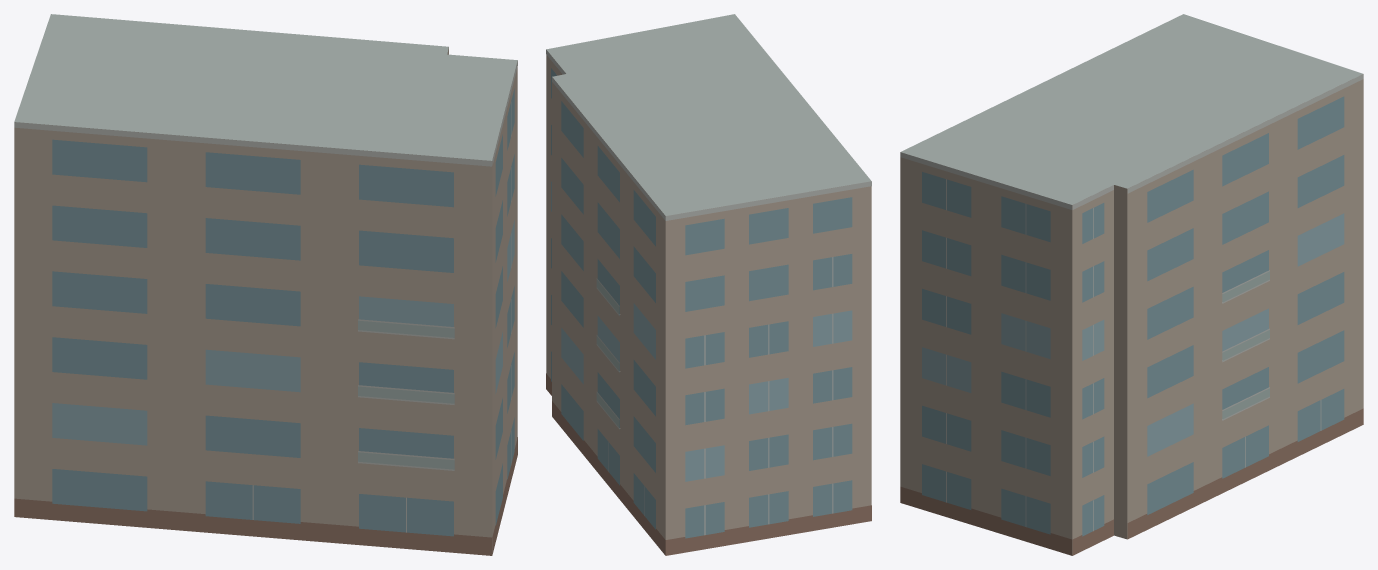
Rendered from survey-upis-32926034.glb.
3 renders of one model, left to right at view 1: azimuth 30°, elevation 25°; view 2: azimuth 150°, elevation 25°; view 3: azimuth 270°, elevation 25°, orthographic. The views are drawn at different scales.
Visible parts, largest first — view 1: survey-upis-32926034.tmp; view 2: survey-upis-32926034.tmp; view 3: survey-upis-32926034.tmp.
Boxes of the visible parts, bbox=[...] form: survey-upis-32926034.tmp: bbox=[14, 14, 517, 555]; survey-upis-32926034.tmp: bbox=[546, 14, 871, 555]; survey-upis-32926034.tmp: bbox=[900, 14, 1363, 555].
Size of the model in its own units: 19.64 by 16.8 by 20.12.
